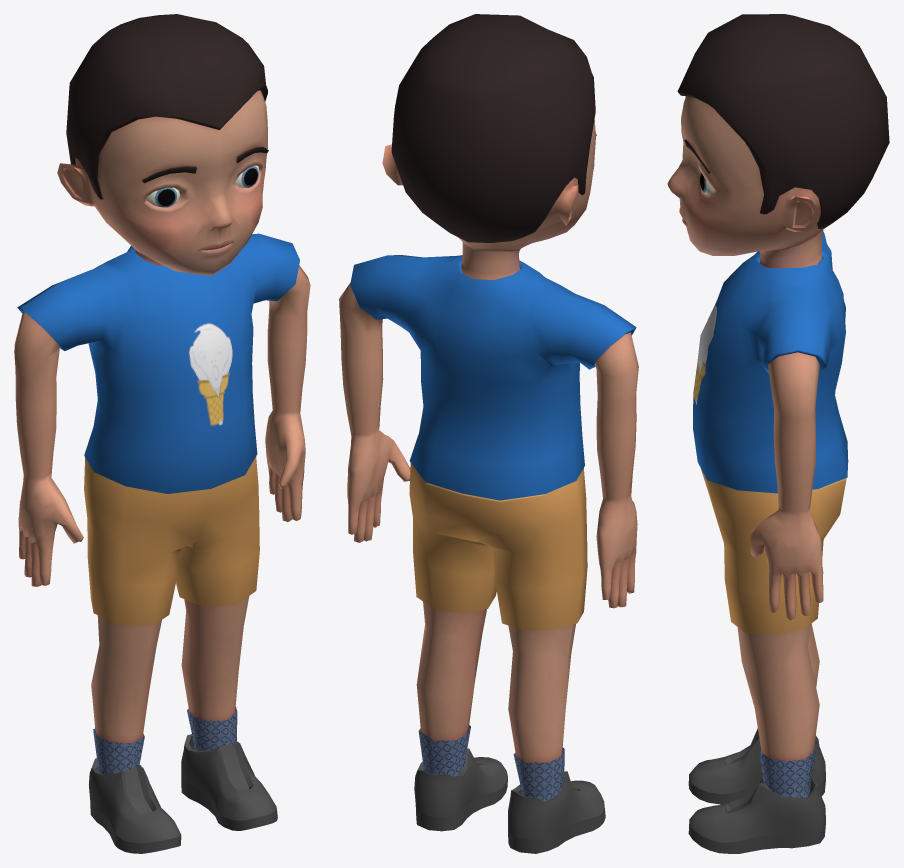
Rendered from kind_blauw.glb.
The picture shows the model from 3 angles, left to right: view 1: azimuth 30°, elevation 25°; view 2: azimuth 150°, elevation 25°; view 3: azimuth 270°, elevation 25°; orthographic projection.
Visible parts, largest first — view 1: uploads_files_3390543_boy; view 2: uploads_files_3390543_boy; view 3: uploads_files_3390543_boy.
Boxes of the visible parts, left/top/right/bottom form: uploads_files_3390543_boy: left=14, top=14, right=310, bottom=853; uploads_files_3390543_boy: left=339, top=14, right=638, bottom=853; uploads_files_3390543_boy: left=667, top=14, right=889, bottom=853.
Bounding box in the file's own units: 49.14 × 126 × 32.04.
1 material, 1 textured.
